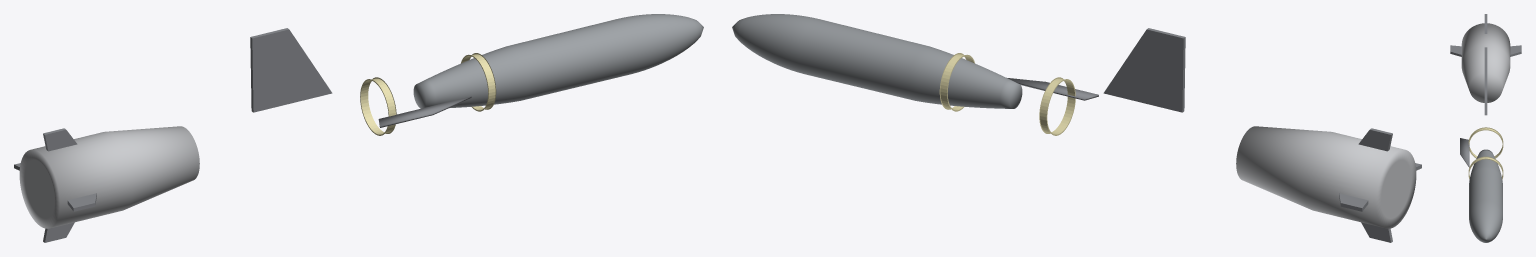
Rendered from FR_ASM_Exocet_SM39_LOD0.fbx.
The picture shows the model from 3 angles, left to right: view 1: azimuth 30°, elevation 25°; view 2: azimuth 150°, elevation 25°; view 3: azimuth 270°, elevation 25°; orthographic projection. The views are drawn at different scales.
Parts seen in each view (by area): view 1: WPN_FR_ASM_Exocet_SM39_LOD0_Body, WPN_FR_ASM_Exocet_SM39_LOD0_Tail, WPN_FR_ASM_Exocet_SM39_LOD0_Wings, WPN_FR_ASM_Exocet_SM39_LOD0_Marking, WPN_FR_ASM_Exocet_SM39_LOD0_Fins, WPN_FR_ASM_Exocet_SM39_LOD0_Detail; view 2: WPN_FR_ASM_Exocet_SM39_LOD0_Body, WPN_FR_ASM_Exocet_SM39_LOD0_Tail, WPN_FR_ASM_Exocet_SM39_LOD0_Wings, WPN_FR_ASM_Exocet_SM39_LOD0_Marking, WPN_FR_ASM_Exocet_SM39_LOD0_Fins, WPN_FR_ASM_Exocet_SM39_LOD0_Detail; view 3: WPN_FR_ASM_Exocet_SM39_LOD0_Tail, WPN_FR_ASM_Exocet_SM39_LOD0_Body, WPN_FR_ASM_Exocet_SM39_LOD0_Marking, WPN_FR_ASM_Exocet_SM39_LOD0_Fins, WPN_FR_ASM_Exocet_SM39_LOD0_Wings, WPN_FR_ASM_Exocet_SM39_LOD0_Detail.
Boxes of the visible parts, box(x1,y1,x2,y2) form: WPN_FR_ASM_Exocet_SM39_LOD0_Body: box(413, 14, 703, 108); WPN_FR_ASM_Exocet_SM39_LOD0_Tail: box(19, 126, 199, 228); WPN_FR_ASM_Exocet_SM39_LOD0_Wings: box(250, 28, 332, 112); WPN_FR_ASM_Exocet_SM39_LOD0_Marking: box(360, 53, 496, 135); WPN_FR_ASM_Exocet_SM39_LOD0_Fins: box(14, 128, 96, 242); WPN_FR_ASM_Exocet_SM39_LOD0_Detail: box(378, 96, 471, 127); WPN_FR_ASM_Exocet_SM39_LOD0_Body: box(732, 14, 1022, 108); WPN_FR_ASM_Exocet_SM39_LOD0_Tail: box(1236, 126, 1416, 228); WPN_FR_ASM_Exocet_SM39_LOD0_Wings: box(1103, 28, 1185, 112); WPN_FR_ASM_Exocet_SM39_LOD0_Marking: box(939, 53, 1075, 135); WPN_FR_ASM_Exocet_SM39_LOD0_Fins: box(1339, 128, 1421, 242); WPN_FR_ASM_Exocet_SM39_LOD0_Detail: box(1007, 78, 1098, 100); WPN_FR_ASM_Exocet_SM39_LOD0_Tail: box(1461, 23, 1510, 102); WPN_FR_ASM_Exocet_SM39_LOD0_Body: box(1469, 149, 1502, 242); WPN_FR_ASM_Exocet_SM39_LOD0_Marking: box(1468, 127, 1503, 179); WPN_FR_ASM_Exocet_SM39_LOD0_Fins: box(1450, 14, 1521, 56); WPN_FR_ASM_Exocet_SM39_LOD0_Wings: box(1484, 47, 1487, 115); WPN_FR_ASM_Exocet_SM39_LOD0_Detail: box(1460, 138, 1469, 167).
Size of the model in its own units: 4.7 by 0.7311 by 1.04.
